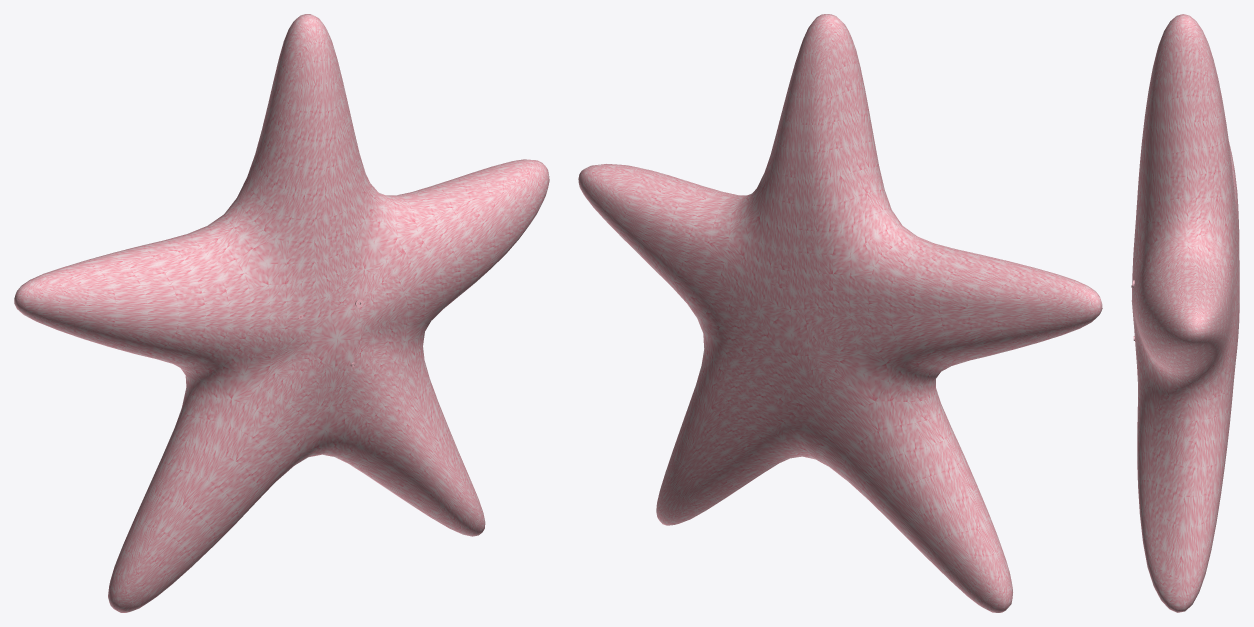
File: star.obj
3 views of the same model, side by side, from view 1: azimuth 30°, elevation 25°; view 2: azimuth 150°, elevation 25°; view 3: azimuth 270°, elevation 25° (orthographic). The views are drawn at different scales.
Parts seen in each view (by area): view 1: Tube_522; view 2: Tube_522; view 3: Tube_522.
Part boxes in pixels (bbox=[...]): Tube_522: bbox=[14, 14, 549, 612]; Tube_522: bbox=[578, 14, 1102, 612]; Tube_522: bbox=[1131, 14, 1239, 612].
Size of the model in its own units: 161 by 162 by 30.59.
1 material, 1 textured.
